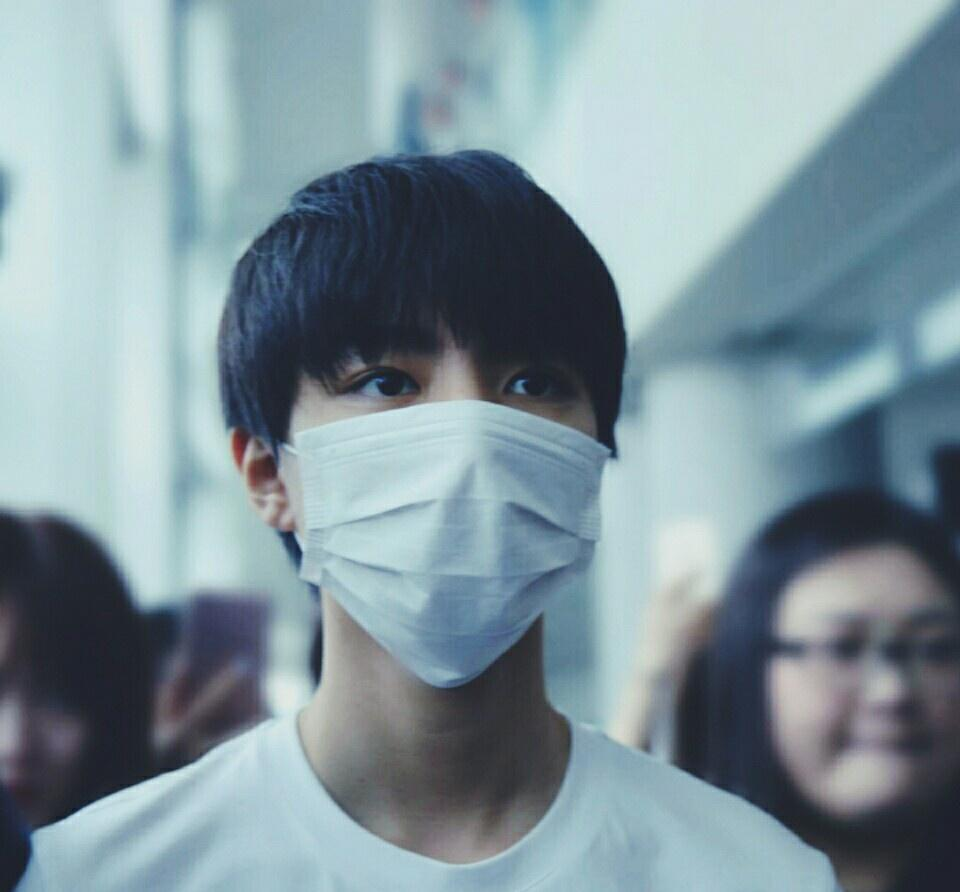NONE: (780, 601, 960, 805), (1, 647, 108, 811)
OK: (261, 309, 626, 674)
